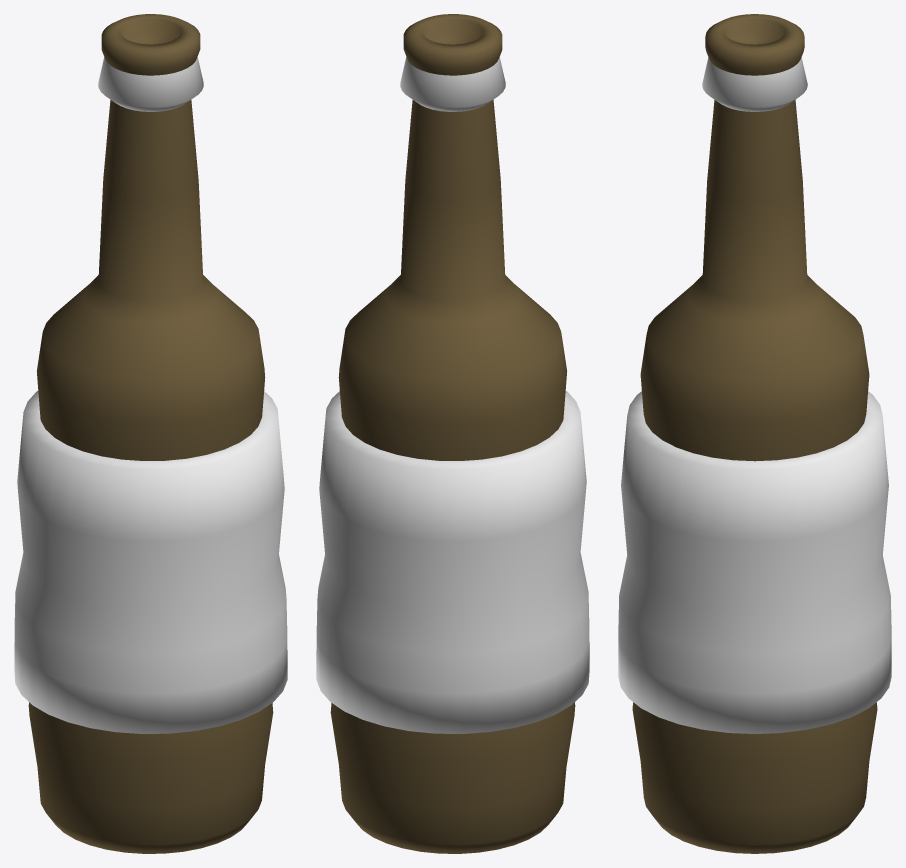
Rendered from bottle.fbx.
The picture shows the model from 3 angles, left to right: view 1: azimuth 30°, elevation 25°; view 2: azimuth 150°, elevation 25°; view 3: azimuth 270°, elevation 25°; orthographic projection.
Parts seen in each view (by area): view 1: Cylinder; view 2: Cylinder; view 3: Cylinder.
Boxes of the visible parts, bbox=[...] form: Cylinder: bbox=[14, 14, 287, 853]; Cylinder: bbox=[316, 14, 589, 853]; Cylinder: bbox=[618, 14, 891, 853].
Size of the model in its own units: 56.28 by 177 by 56.28.
